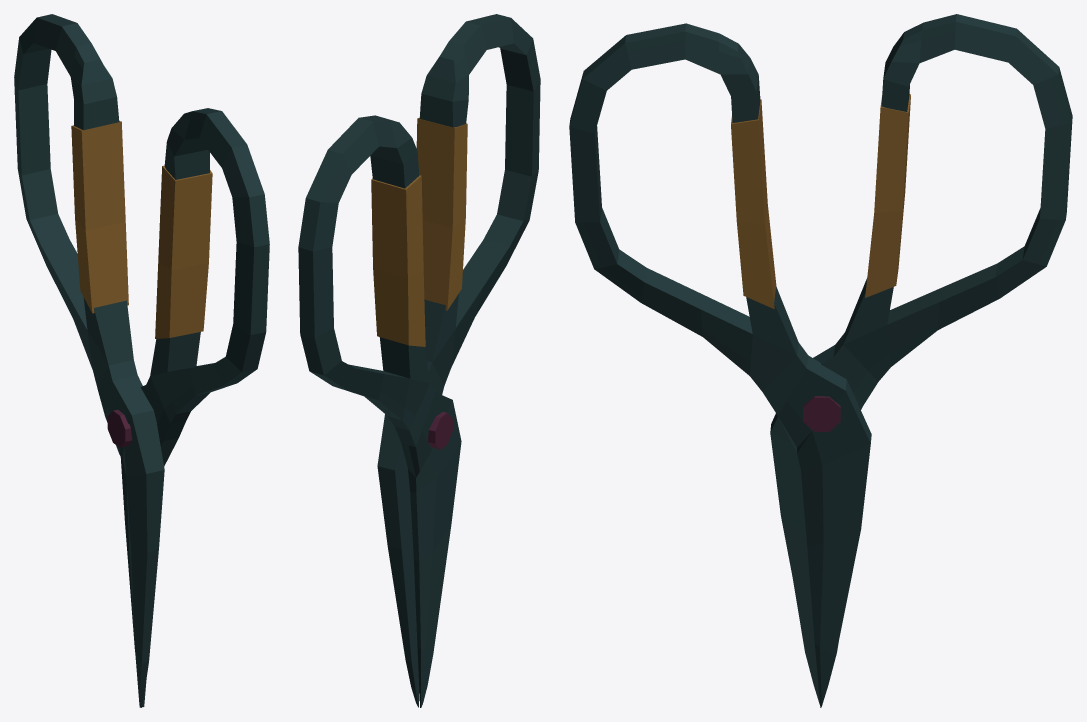
Rendered from Closed_Scissors.fbx.
3 views of the same model, side by side, from view 1: azimuth 30°, elevation 25°; view 2: azimuth 150°, elevation 25°; view 3: azimuth 270°, elevation 25° (orthographic). The views are drawn at different scales.
Visible parts, largest first — view 1: Leg, Leg.001, Case, Case.001, Pin; view 2: Leg, Leg.001, Case, Case.001, Pin; view 3: Leg.001, Leg, Case.001, Case, Pin.
Part boxes in pixels (x1,y1,x2,y2): Leg: (14,14,164,707); Leg.001: (120,108,269,707); Case: (71,121,128,313); Case.001: (155,165,212,338); Pin: (107,409,132,447); Leg: (298,115,461,707); Leg.001: (377,14,540,707); Case: (371,175,425,346); Case.001: (416,118,467,310); Pin: (427,412,452,449); Leg.001: (569,23,871,707); Leg: (770,14,1072,705); Case.001: (731,99,776,309); Case: (865,94,910,297); Pin: (803,396,840,431).
Size of the model in its own units: 109 by 1062 by 707.
